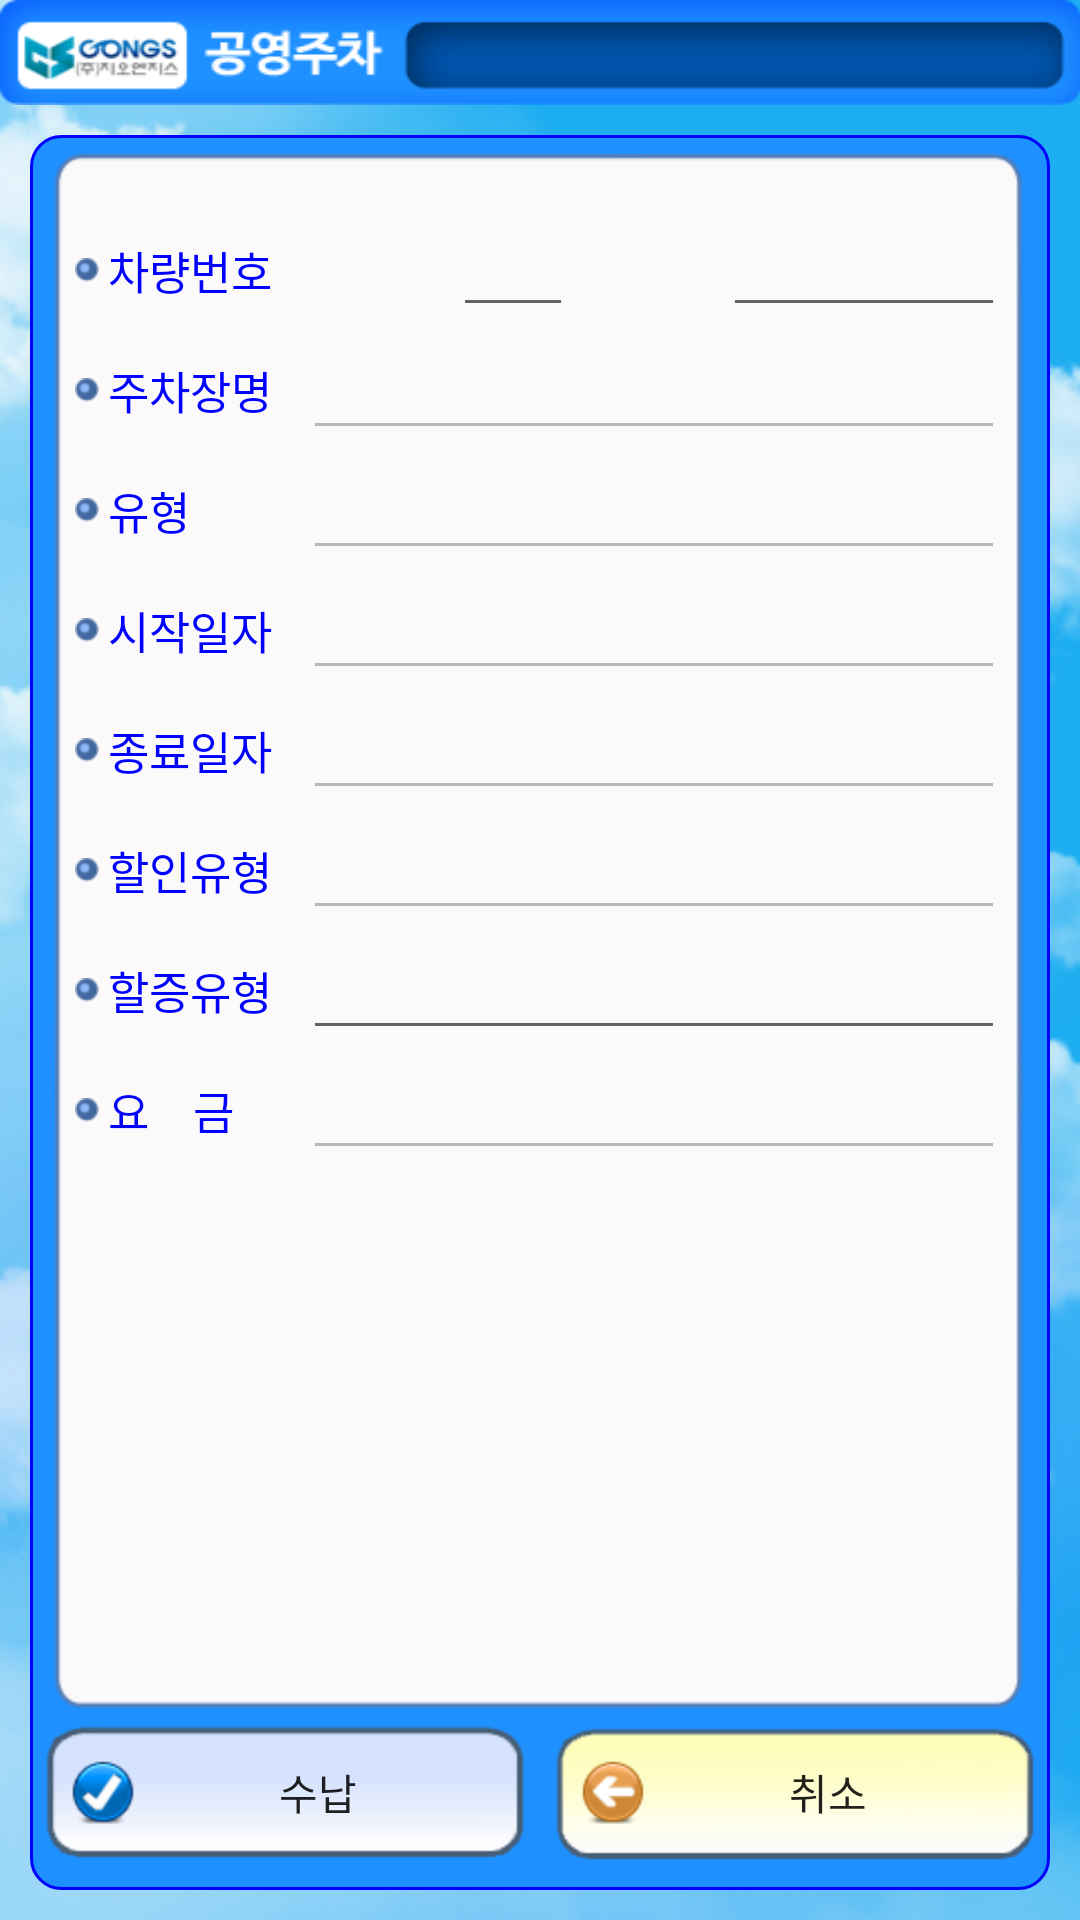

Icon click points for this 1080w x 1920h phone screenshot, format (x,y):
dot: (87,270), (87,390), (87,510), (87,630), (87,750), (87,870), (87,990), (87,1110)
